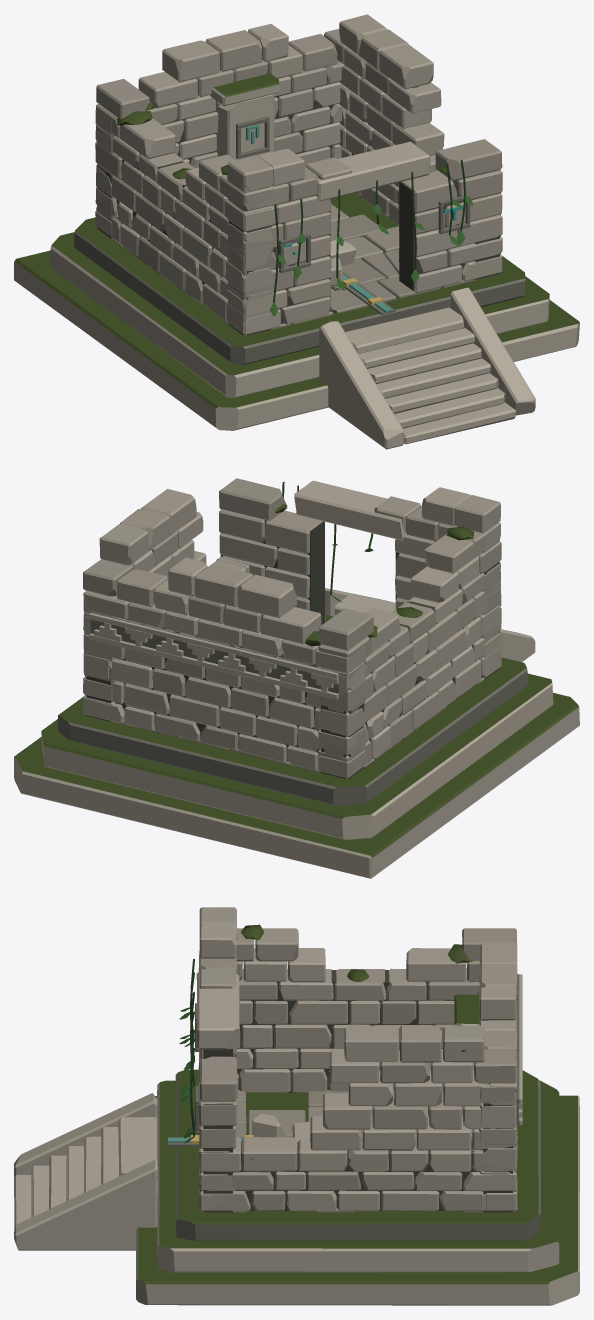
Rendered from zr_ruin_shrine.glb.
3 renders of one model, top to bottom at view 1: azimuth 30°, elevation 25°; view 2: azimuth 150°, elevation 25°; view 3: azimuth 270°, elevation 25°, orthographic. The views are drawn at different scales.
Visible parts, largest first — view 1: zr_ruin_shrine; view 2: zr_ruin_shrine; view 3: zr_ruin_shrine.
Boxes of the visible parts, <box> form: zr_ruin_shrine: <box>14,14,579,449</box>; zr_ruin_shrine: <box>14,478,579,878</box>; zr_ruin_shrine: <box>14,907,579,1305</box>.
Size of what is drawn, in the model's own units: 8.41 by 5 by 10.71.
